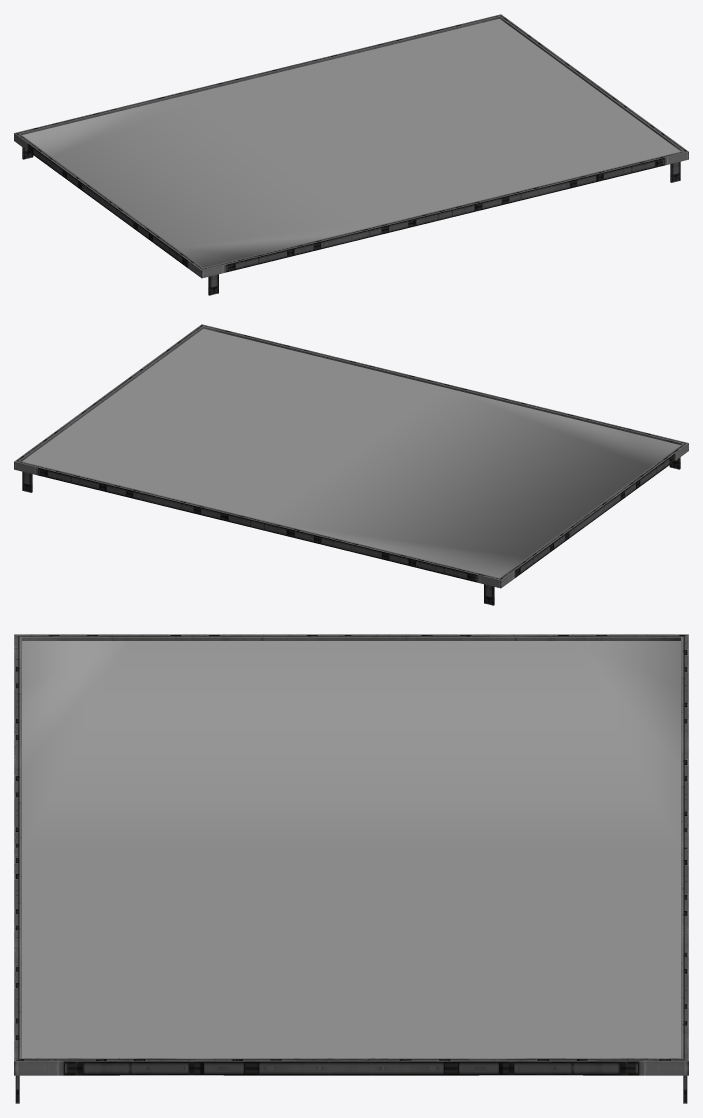
File: Neon_CrateTop.FBX
The picture shows the model from 3 angles, top to bottom: view 1: azimuth 30°, elevation 25°; view 2: azimuth 150°, elevation 25°; view 3: azimuth 270°, elevation 25°; orthographic projection. The views are drawn at different scales.
Parts seen in each view (by area): view 1: Neon_CrateTop; view 2: Neon_CrateTop; view 3: Neon_CrateTop.
Part boxes in pixels (box(x1,y1,x2,y2)): Neon_CrateTop: box(14, 14, 688, 295); Neon_CrateTop: box(14, 324, 688, 605); Neon_CrateTop: box(14, 634, 688, 1103).
Bounding box in the file's own units: 5.86 × 0.3158 × 3.91.
